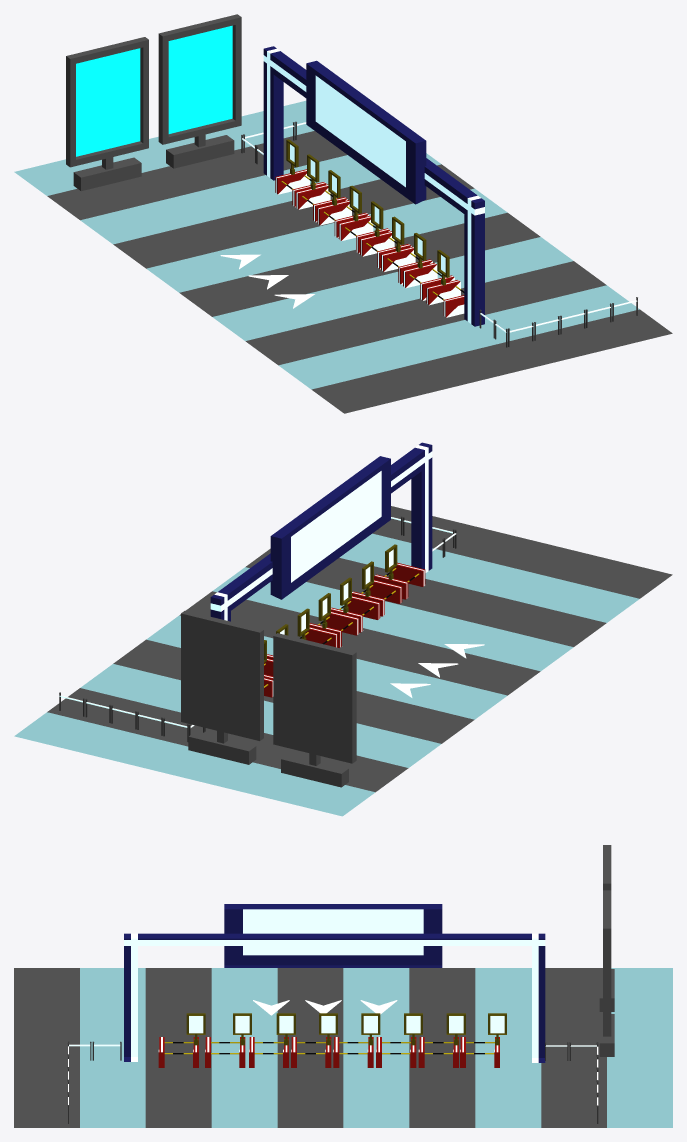
The model's file is Entrance3 1.fbx.
3 renders of one model, top to bottom at view 1: azimuth 30°, elevation 25°; view 2: azimuth 150°, elevation 25°; view 3: azimuth 270°, elevation 25°, orthographic.
Parts seen in each view (by area): view 1: Plane.001, Cube.001, PosterWall.001, PosterWall, Cube.004, Cube.005, Cube.006, Cube.010, Cube.009, Cube.008, Cube.007, Cube.011 (+2 smaller); view 2: Plane.001, Cube.001, PosterWall, PosterWall.001, Cube.004, Cube.005, Cube.007, Cube.006, Cube.008, Cube.012, Cube.002; view 3: Plane.001, Cube.001, PosterWall.001, Cube.008, Cube.004, Cube.010, Cube.005, Cube.007, Cube.009, Cube.006, Cube.011, PosterWall (+1 smaller).
Part boxes in pixels (x1,y1,x2,y2): Plane.001: (14, 100, 672, 413); Cube.001: (263, 46, 484, 326); PosterWall.001: (158, 14, 241, 168); PosterWall: (66, 37, 148, 191); Cube.004: (426, 250, 464, 317); Cube.005: (403, 233, 454, 300); Cube.006: (381, 216, 432, 284); Cube.010: (296, 154, 347, 222); Cube.009: (317, 170, 368, 237); Cube.008: (338, 185, 390, 253); Cube.007: (360, 201, 411, 269); Cube.011: (275, 139, 326, 207); Plane.001: (14, 506, 672, 816); Cube.001: (210, 442, 432, 621); PosterWall: (273, 633, 356, 787); PosterWall.001: (181, 610, 263, 764); Cube.004: (374, 544, 425, 599); Cube.005: (352, 561, 402, 616); Cube.007: (309, 593, 358, 647); Cube.006: (331, 577, 380, 632); Cube.008: (297, 608, 337, 647); Cube.012: (390, 644, 484, 697); Cube.002: (59, 692, 205, 741); Plane.001: (14, 968, 672, 1127); Cube.001: (124, 904, 545, 1062); PosterWall.001: (599, 890, 614, 1056); Cube.008: (333, 1013, 380, 1067); Cube.004: (158, 1013, 205, 1067); Cube.010: (418, 1013, 465, 1067); Cube.005: (205, 1013, 251, 1067); Cube.007: (291, 1013, 337, 1067); Cube.009: (376, 1013, 422, 1067); Cube.006: (249, 1013, 295, 1067); Cube.011: (460, 1013, 506, 1067); PosterWall: (599, 845, 614, 1011).
Bounding box in the file's own units: 11590 × 5068 × 20180.
